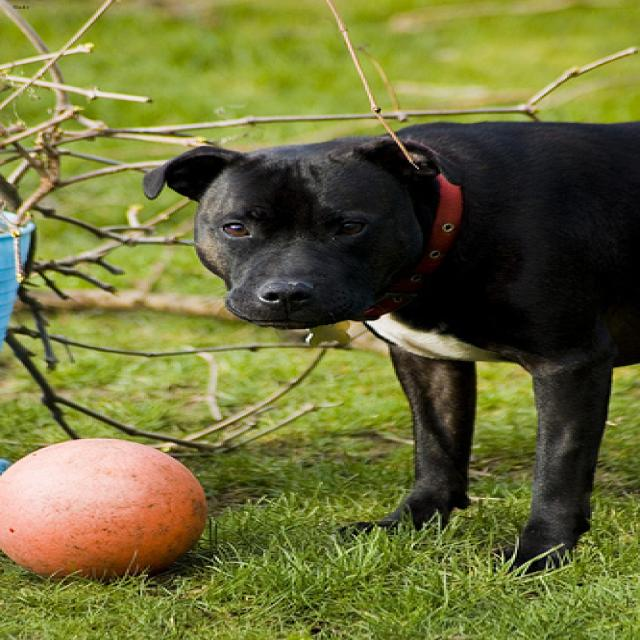dog-staffordshire_bull_terrier: (129, 111, 636, 577)
